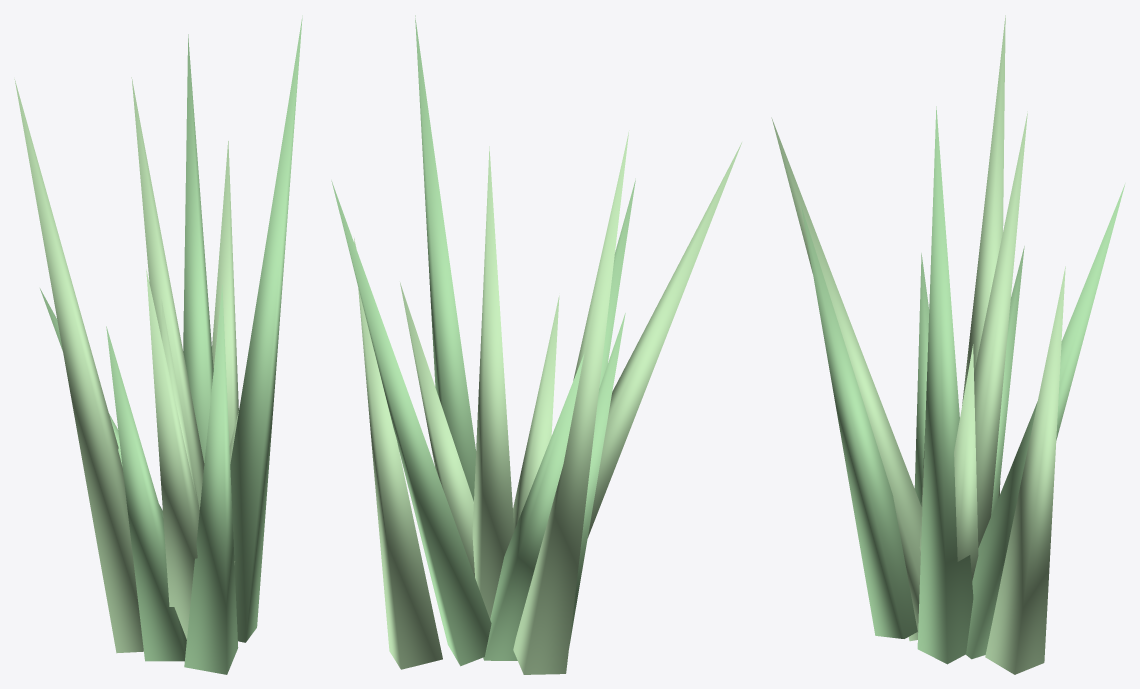
The model's file is scatter_grass.glb.
3 views of the same model, side by side, from view 1: azimuth 30°, elevation 25°; view 2: azimuth 150°, elevation 25°; view 3: azimuth 270°, elevation 25° (orthographic). The views are drawn at different scales.
Visible parts, largest first — view 1: Cone.001, Cone; view 2: Cone, Cone.001; view 3: Cone.001, Cone.
Boxes of the visible parts, x1,y1,x2,y2 form: Cone.001: [40, 15, 302, 674]; Cone: [14, 77, 238, 653]; Cone: [354, 130, 741, 674]; Cone.001: [331, 15, 635, 666]; Cone.001: [801, 106, 1125, 664]; Cone: [771, 15, 1065, 674].
Bounding box in the file's own units: 0.4643 × 1.08 × 0.5946.
